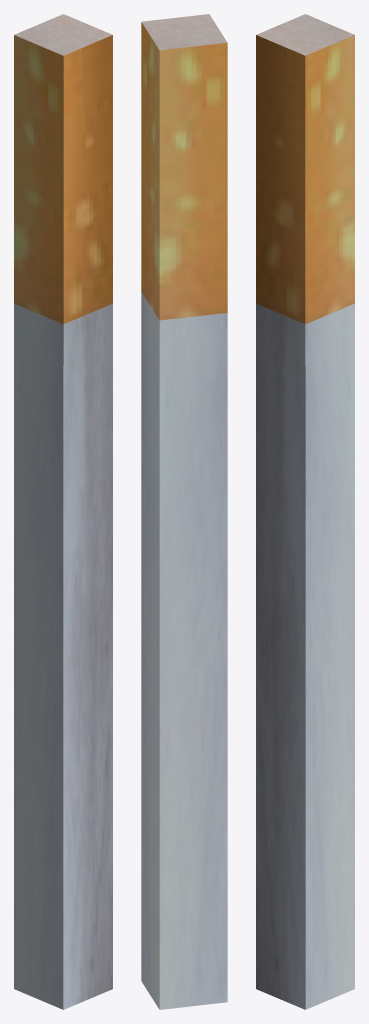
File: cigarette.fbx
The picture shows the model from 3 angles, left to right: view 1: azimuth 90°, elevation 25°; view 2: azimuth 150°, elevation 25°; view 3: azimuth 270°, elevation 25°; orthographic projection.
Visible parts, largest first — view 1: CigaretteFull; view 2: CigaretteFull; view 3: CigaretteFull.
Part boxes in pixels (bbox=[...]): CigaretteFull: bbox=[14, 14, 112, 1009]; CigaretteFull: bbox=[141, 14, 227, 1009]; CigaretteFull: bbox=[256, 14, 354, 1009].
Size of the model in its own units: 10.47 by 111 by 10.47.
1 material, 1 textured.
